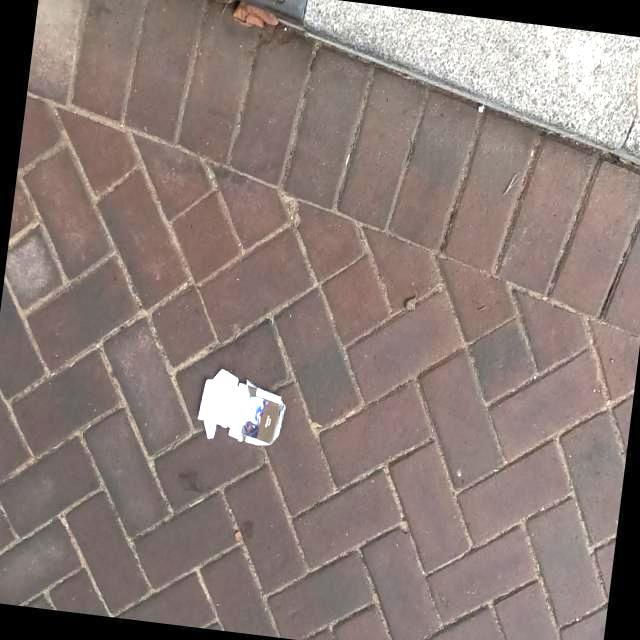Paper: (197, 364, 287, 452)
